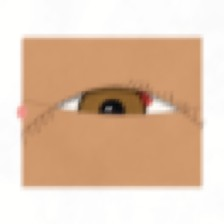hemorrhage_spot: (68, 61, 166, 139)
